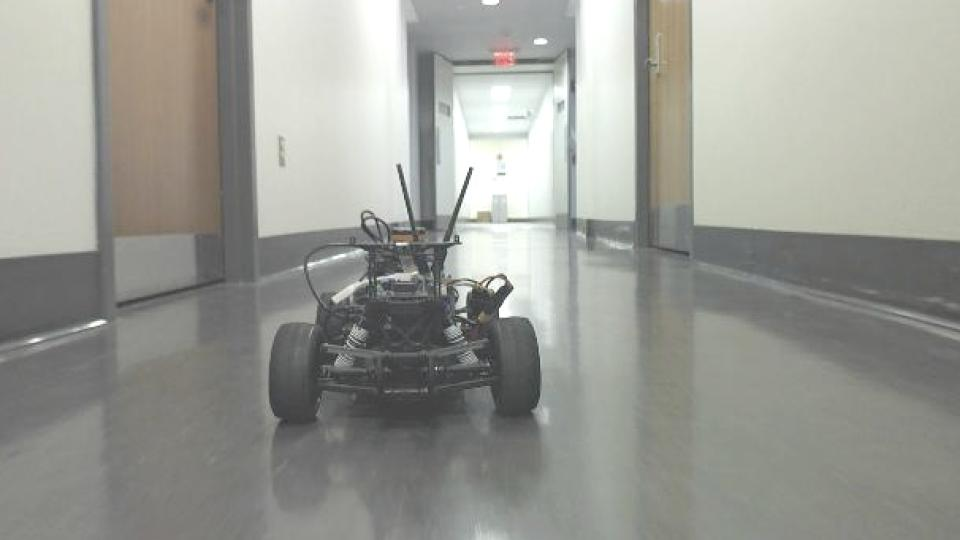car: (264, 162, 544, 426)
